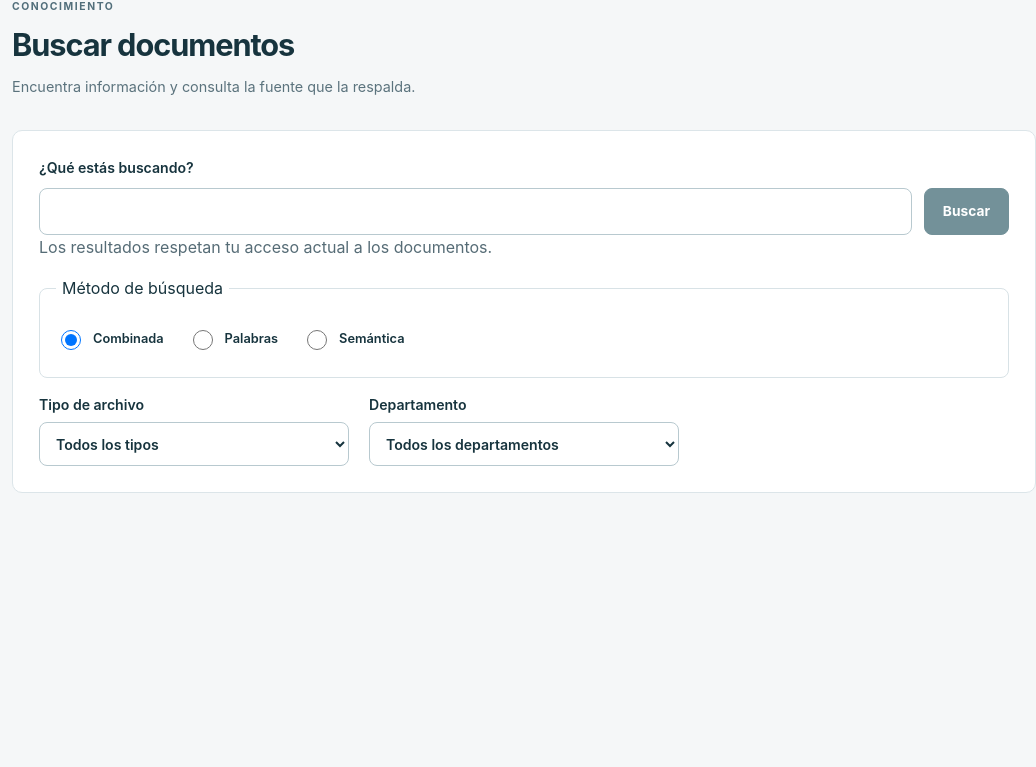
it: clears old evidence if access to a source is no longer available
The width and height of the screenshot is (1036, 767).
Type "viajes" into the search field at (475, 212), box [39,188,912,235]
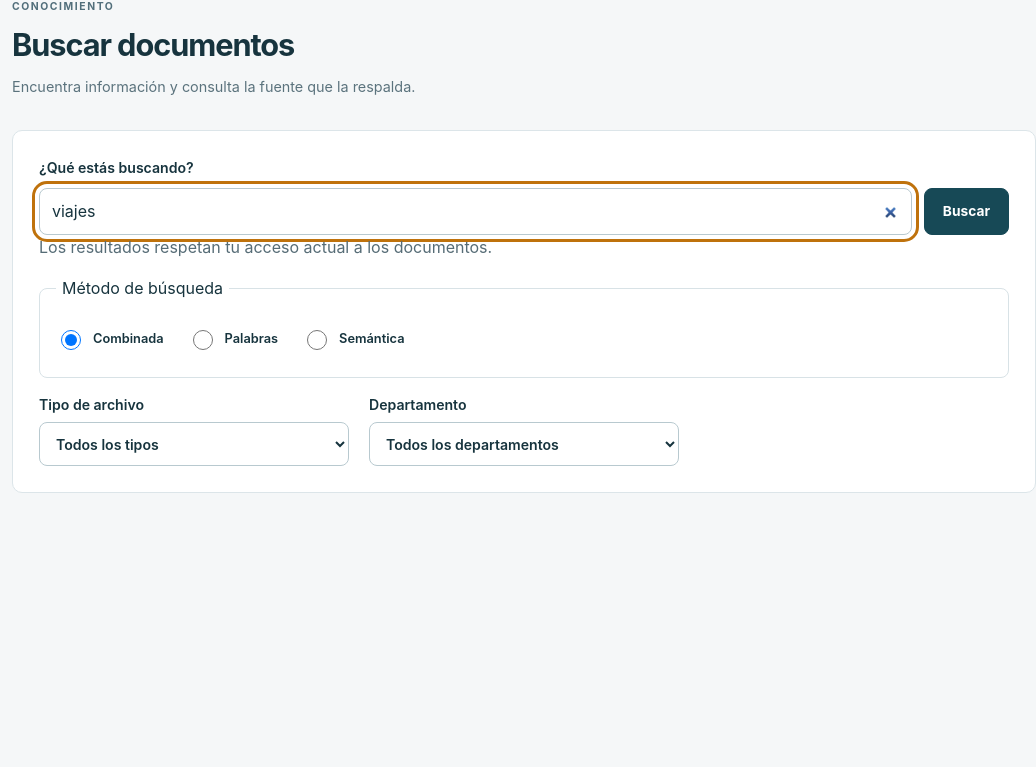
Click the button "Buscar" at (966, 212), box [924,188,1009,235]
(page scrolled)
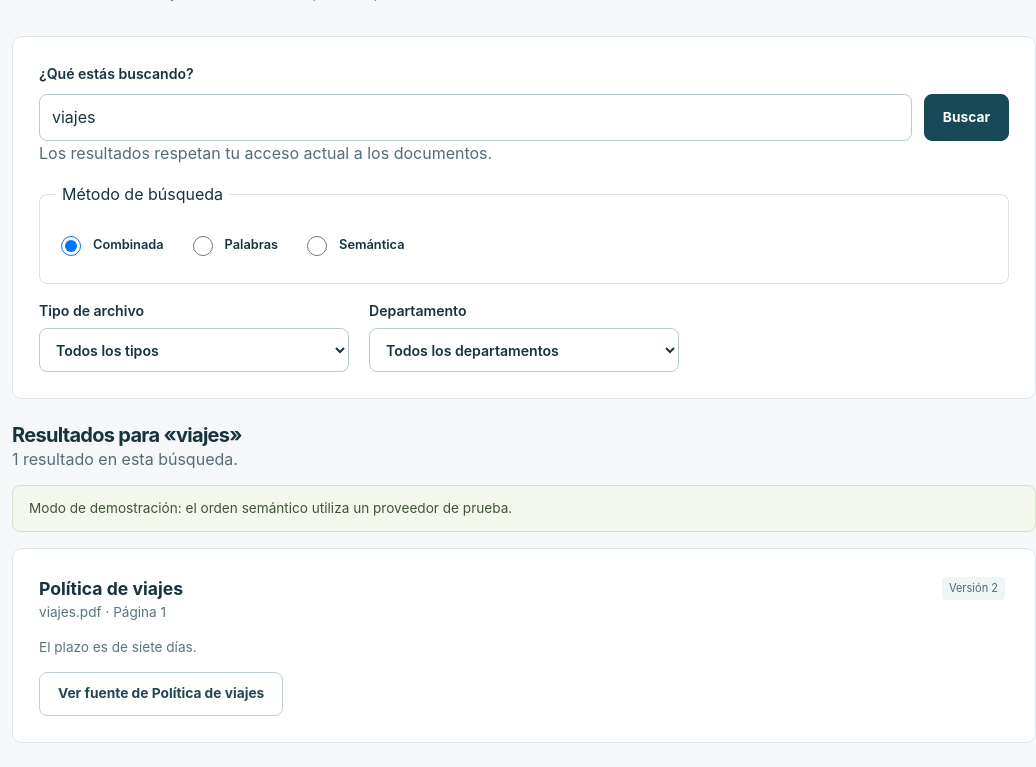
Click the button "Ver fuente de Política de viajes" at (161, 694), box [39,672,283,716]
(page scrolled)
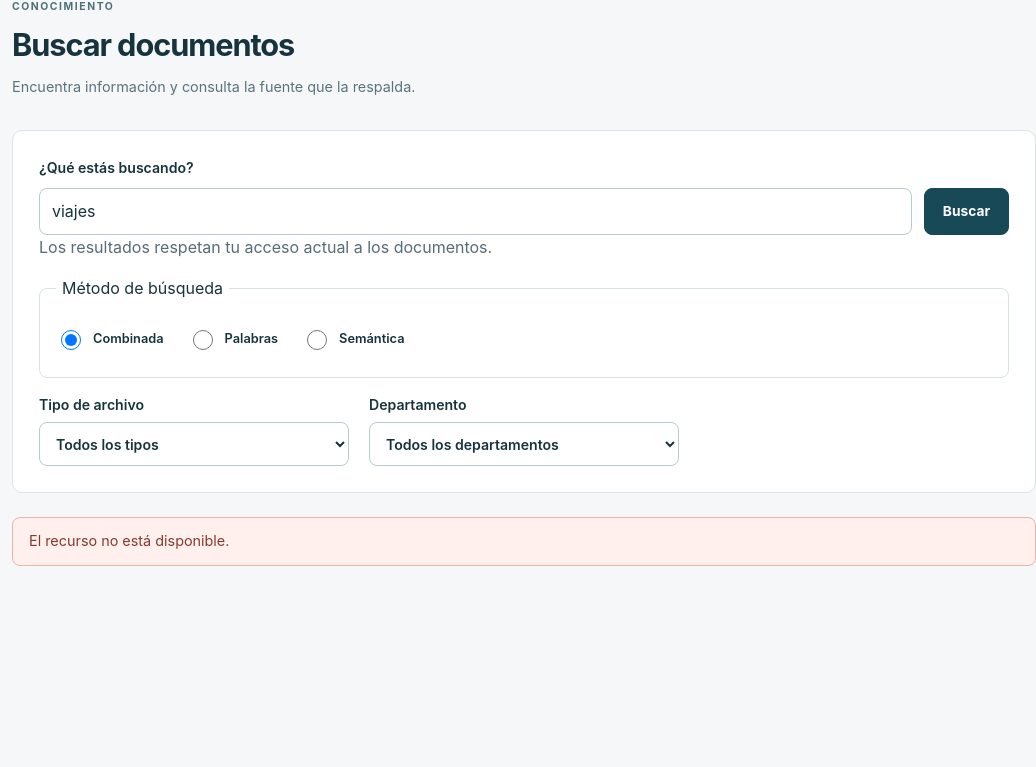
Check: the message reads "El recurso no está disponible.", box [29,532,229,549]
Check: the text "El plazo es de siete días." is gone
